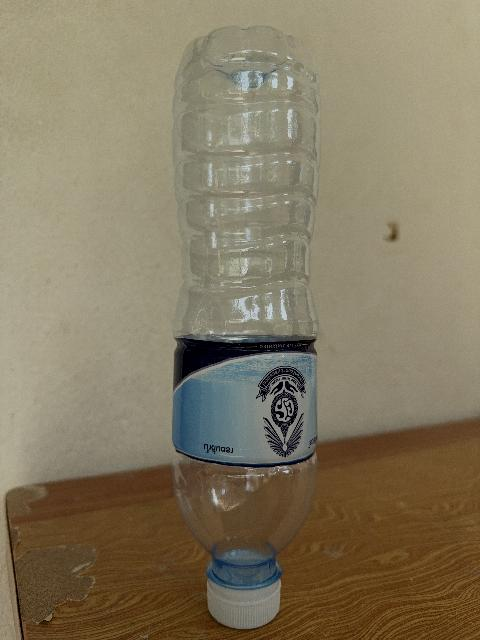bottle: (172, 27, 319, 628)
